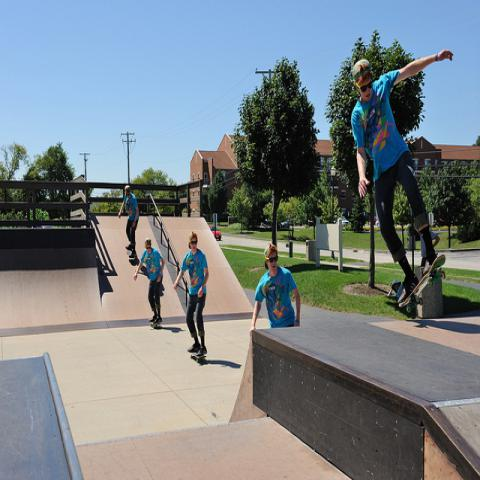car: (209, 226, 223, 240)
